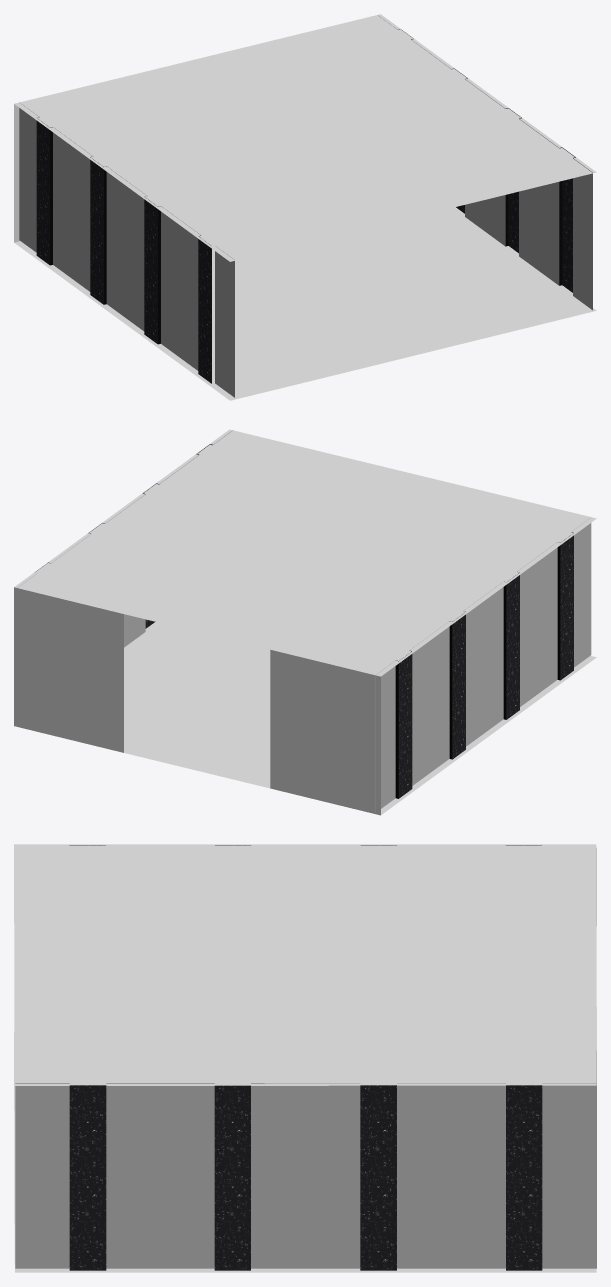
File: room2_checkpoint.gltf
The picture shows the model from 3 angles, top to bottom: view 1: azimuth 30°, elevation 25°; view 2: azimuth 150°, elevation 25°; view 3: azimuth 270°, elevation 25°; orthographic projection. The views are drawn at different scales.
Visible parts, largest first — view 1: Cube, site19_wall_cb_modern.001, site19_wall_cb_modern; view 2: Cube, site19_wall_cb_modern.001, site19_wall_cb_modern; view 3: Cube, site19_wall_cb_modern.
Part boxes in pixels (box(x1,y1,x2,y2)): Cube: box(14, 14, 596, 400); site19_wall_cb_modern.001: box(19, 102, 234, 397); site19_wall_cb_modern: box(378, 15, 592, 310); Cube: box(14, 429, 596, 815); site19_wall_cb_modern.001: box(375, 518, 591, 812); site19_wall_cb_modern: box(18, 430, 233, 647); Cube: box(14, 844, 596, 1272); site19_wall_cb_modern: box(15, 1083, 596, 1270).
Size of the model in its own units: 20.09 by 7.27 by 20.5.
Materials: 27 (8 with a texture image).
